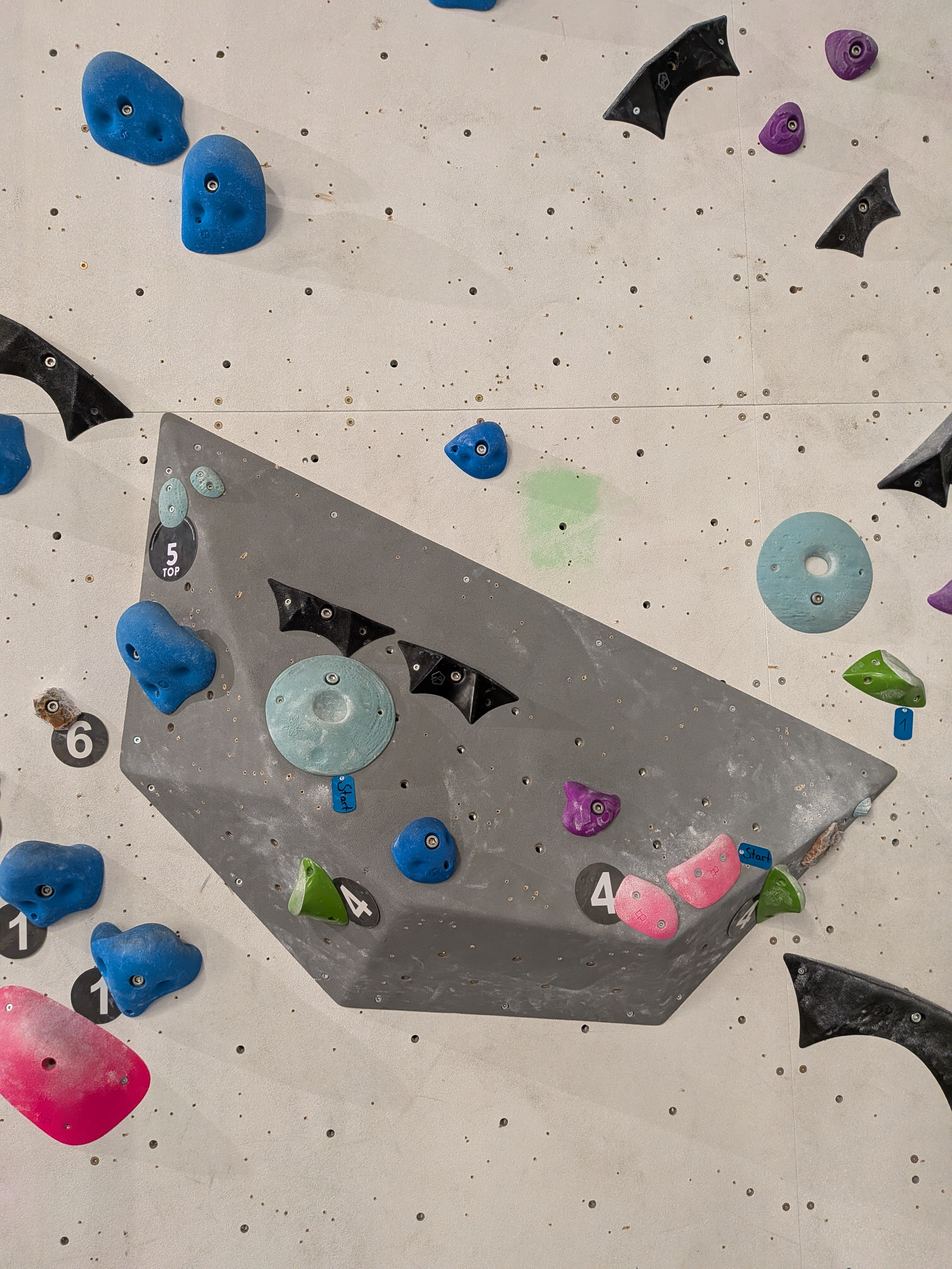hold: (784, 953, 952, 1107), (0, 986, 150, 1145), (0, 315, 133, 441), (604, 15, 740, 138), (266, 656, 394, 776), (759, 513, 874, 634), (81, 52, 189, 164), (116, 601, 215, 712), (88, 924, 199, 1017), (181, 135, 266, 253), (267, 580, 393, 658), (401, 643, 517, 723), (0, 841, 103, 927), (817, 169, 899, 256), (877, 414, 952, 507), (667, 836, 743, 909), (843, 651, 925, 708), (392, 819, 457, 883), (614, 876, 679, 940), (288, 859, 350, 923), (444, 423, 507, 478), (565, 784, 622, 836), (757, 865, 805, 923), (826, 30, 878, 79), (760, 102, 804, 154), (0, 415, 26, 493), (801, 822, 842, 867), (32, 688, 78, 727), (159, 477, 188, 528), (191, 466, 223, 497), (927, 580, 952, 614), (431, 0, 496, 11), (854, 799, 872, 817)
volume: (114, 407, 901, 1027)
